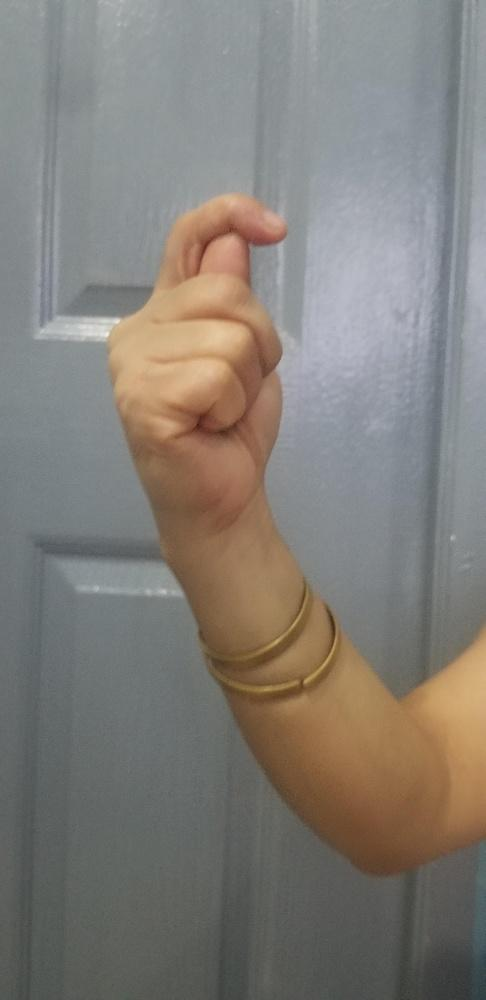t: (104, 188, 288, 550)
